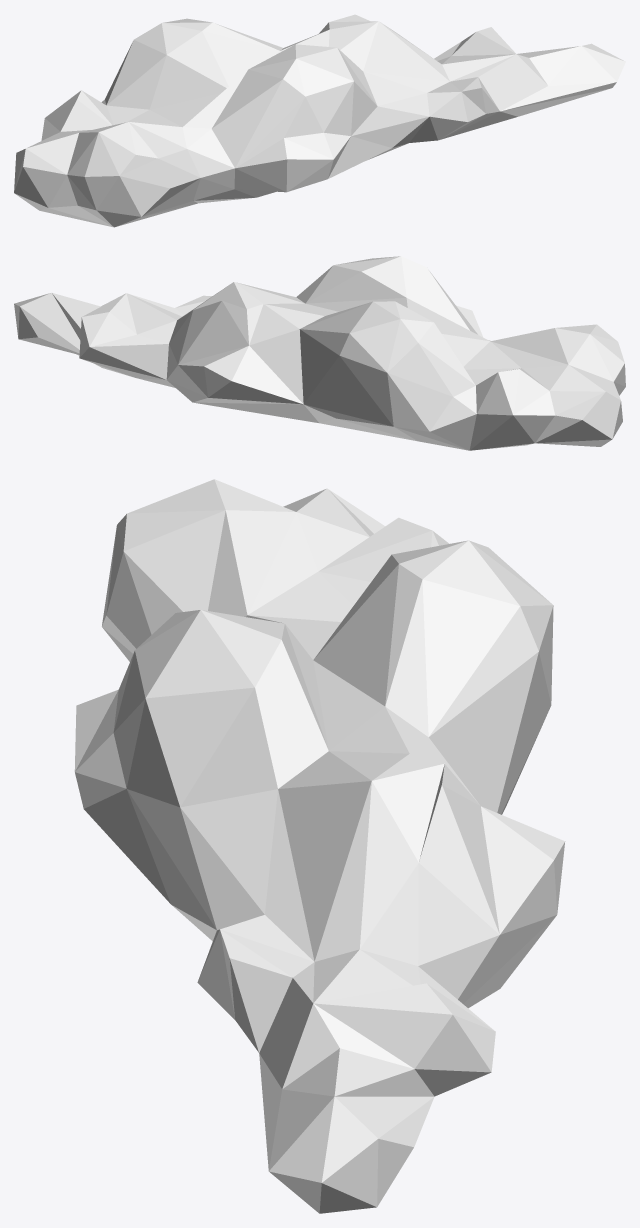
The model's file is SM_Env_Cloud_02.glb.
3 renders of one model, top to bottom at view 1: azimuth 30°, elevation 25°; view 2: azimuth 150°, elevation 25°; view 3: azimuth 270°, elevation 25°, orthographic. The views are drawn at different scales.
Parts seen in each view (by area): view 1: SM_Env_Cloud_02_part00; view 2: SM_Env_Cloud_02_part00; view 3: SM_Env_Cloud_02_part00.
Part boxes in pixels (bbox=[...]): SM_Env_Cloud_02_part00: bbox=[14, 14, 625, 227]; SM_Env_Cloud_02_part00: bbox=[14, 256, 625, 450]; SM_Env_Cloud_02_part00: bbox=[74, 479, 565, 1213].
Size of the model in its own units: 72.92 by 17.05 by 25.71.
Materials: 1 (1 with a texture image).
